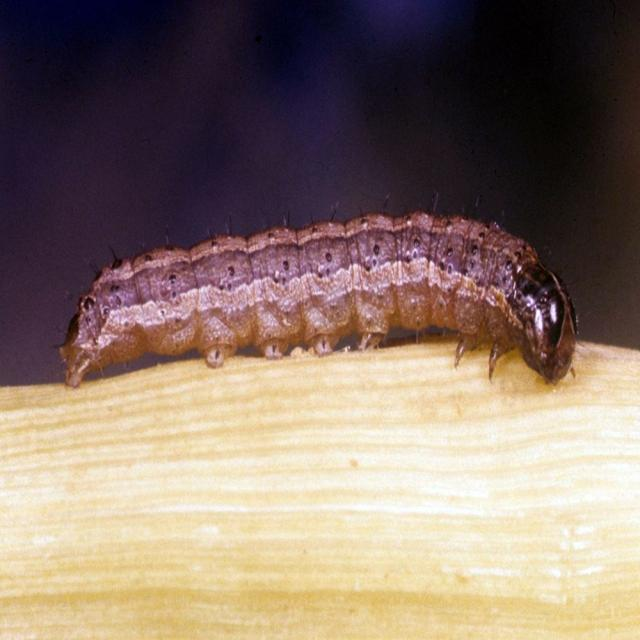worm: (55, 204, 581, 392)
